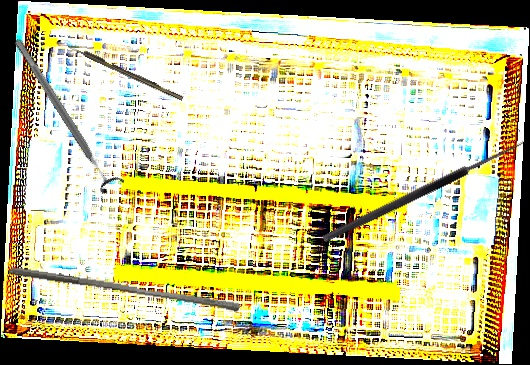Fixation Ring: (5, 32, 126, 198)
Hook Surgical: (316, 126, 528, 245), (68, 43, 184, 102)
Pusher: (7, 265, 242, 313)
